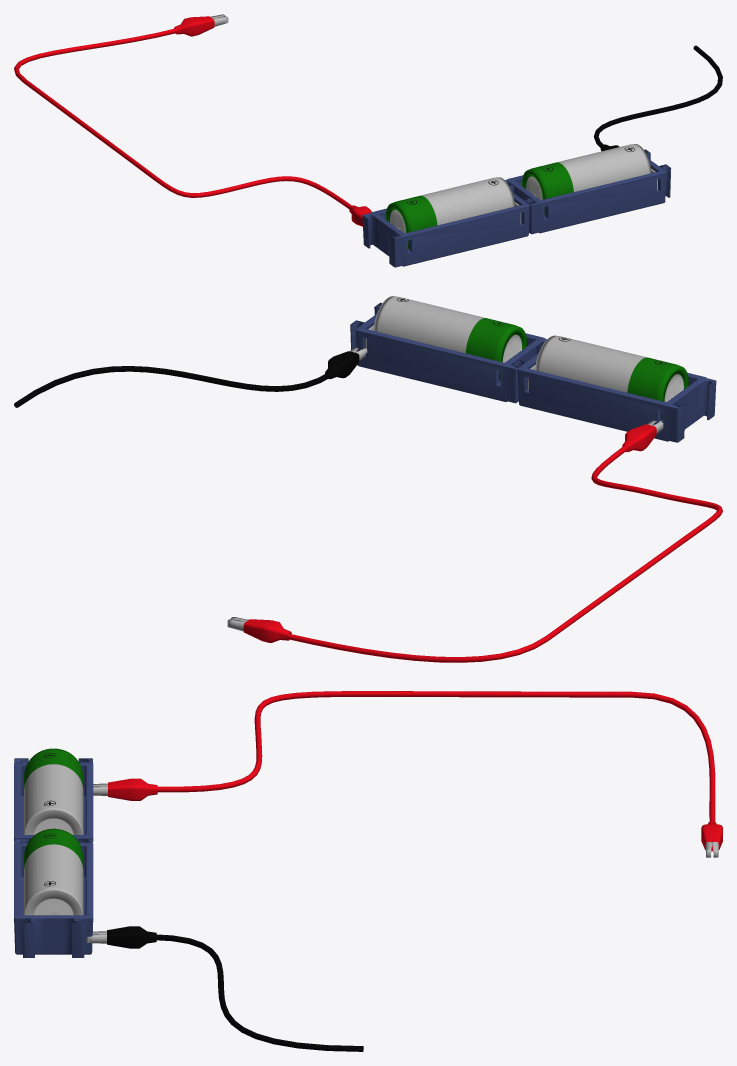
The model's file is Battery2.glb.
3 views of the same model, one above another, from view 1: azimuth 30°, elevation 25°; view 2: azimuth 150°, elevation 25°; view 3: azimuth 270°, elevation 25° (orthographic). The views are drawn at different scales.
Visible parts, largest first — view 1: Battery.001, BézierCurve.002, pCube12; view 2: Battery.001, BézierCurve.002, pCube12; view 3: Battery.001, BézierCurve.002, pCube12.
Boxes of the visible parts, left/top/right/bottom form: Battery.001: left=362, top=144, right=671, bottom=267; BézierCurve.002: left=14, top=14, right=371, bottom=226; pCube12: left=594, top=45, right=722, bottom=151; Battery.001: left=350, top=296, right=716, bottom=442; BézierCurve.002: left=227, top=420, right=722, bottom=662; pCube12: left=14, top=346, right=367, bottom=407; Battery.001: left=14, top=748, right=93, bottom=957; BézierCurve.002: left=93, top=691, right=722, bottom=857; pCube12: left=86, top=926, right=363, bottom=1051.
Size of the model in its own units: 8.02 by 0.6655 by 7.23.
19 materials, 2 textured.
